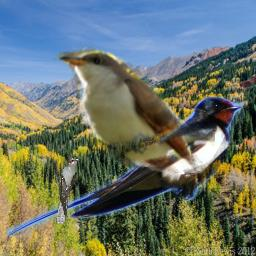Cuckoo: (53, 39, 215, 173), (56, 157, 81, 224)
Swallow: (4, 96, 243, 237)
